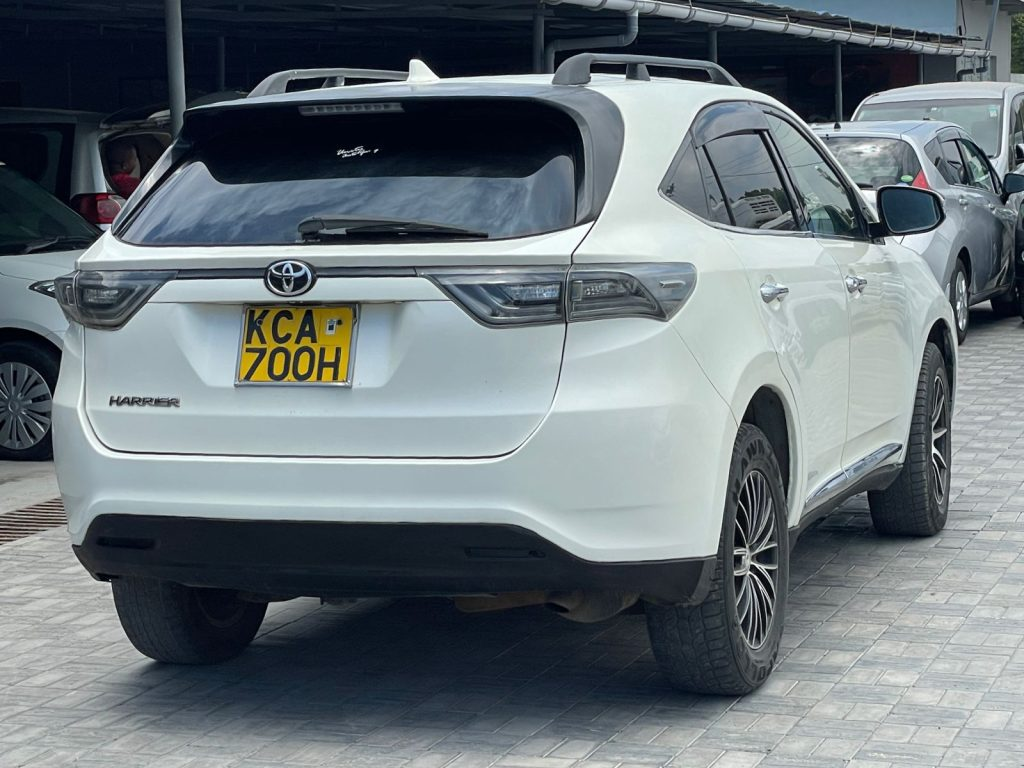car: (48, 50, 965, 710)
